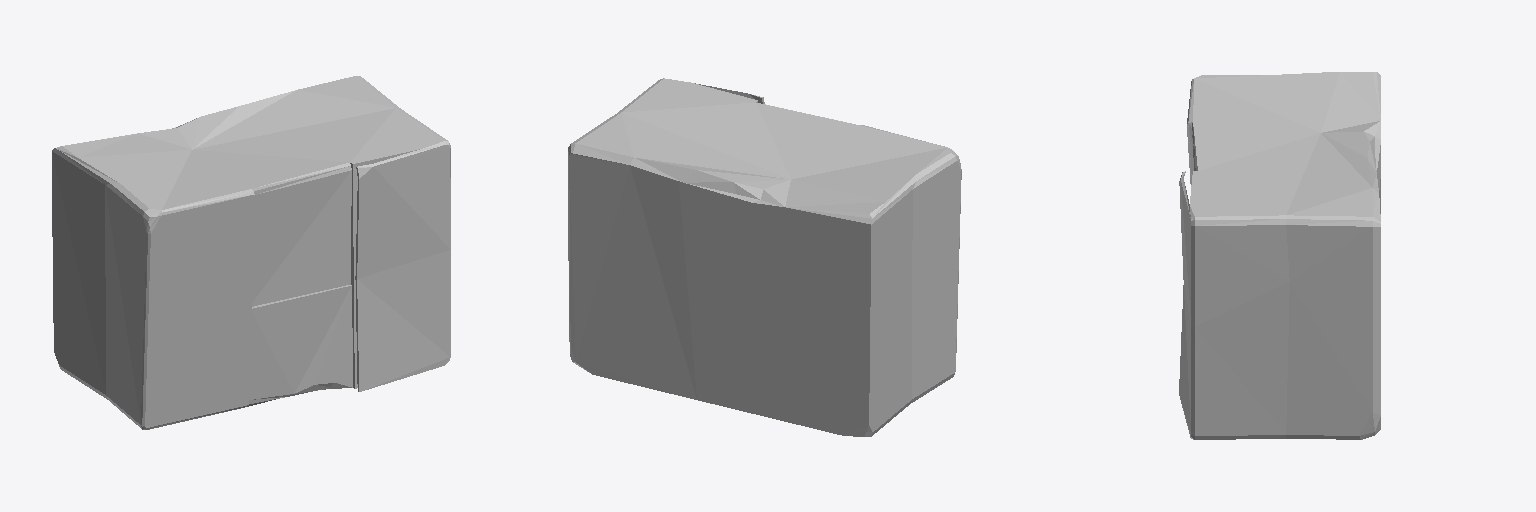
The model's file is box_closed.obj.
The picture shows the model from 3 angles: view 1: azimuth 30°, elevation 25°; view 2: azimuth 150°, elevation 25°; view 3: azimuth 270°, elevation 25°; orthographic projection.
Visible parts, largest first — view 1: box_closed; view 2: box_closed; view 3: box_closed.
Part boxes in pixels (x1,y1,x2,y2): box_closed: (52, 76, 450, 429); box_closed: (568, 78, 961, 436); box_closed: (1179, 72, 1380, 439).
Bounding box in the file's own units: 35.77 × 24.92 × 20.35.